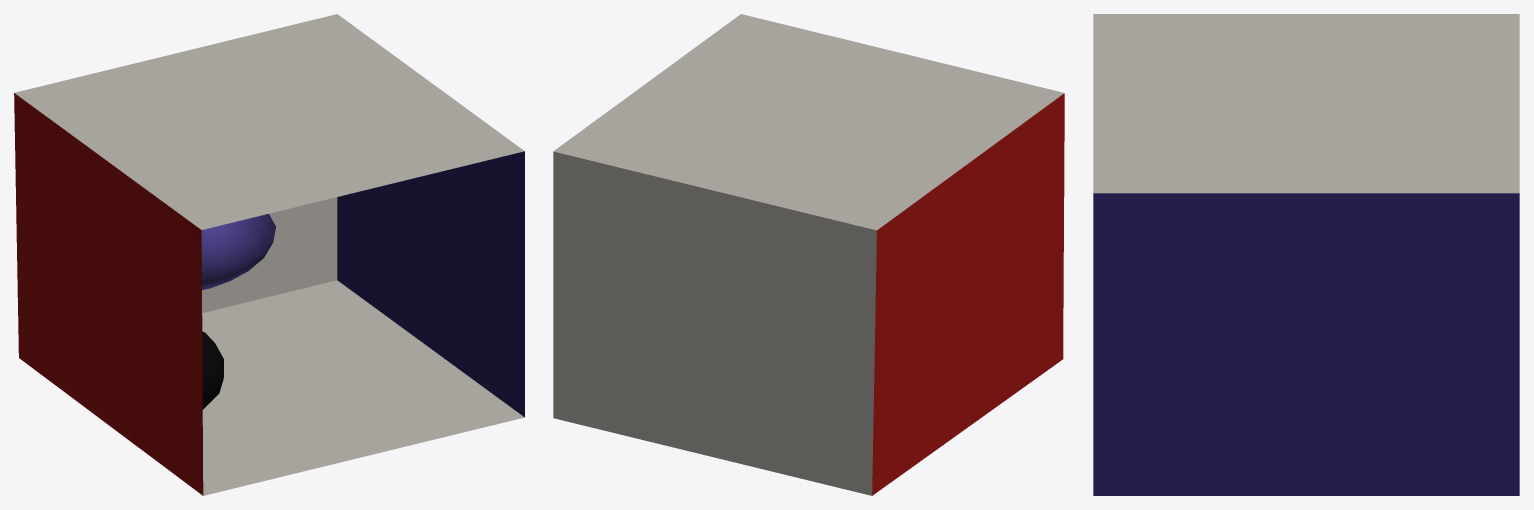
Rendered from CornellBox-Ellipsoid-27.obj.
The picture shows the model from 3 angles, left to right: view 1: azimuth 30°, elevation 25°; view 2: azimuth 150°, elevation 25°; view 3: azimuth 270°, elevation 25°; orthographic projection. The views are drawn at different scales.
Visible parts, largest first — view 1: ceiling, leftWall, floor, rightWall, backWall, leftSphere, rightSphere; view 2: backWall, ceiling, leftWall; view 3: rightWall, ceiling.
Part boxes in pixels (x1,y1,x2,y2): ceiling: (14, 14, 524, 229); leftWall: (14, 93, 203, 495); floor: (202, 280, 524, 495); rightWall: (337, 151, 524, 417); backWall: (202, 197, 337, 312); leftSphere: (201, 213, 275, 289); rightSphere: (202, 331, 223, 409); backWall: (553, 151, 876, 495); ceiling: (553, 14, 1064, 230); leftWall: (872, 93, 1064, 495); rightWall: (1093, 193, 1519, 495); ceiling: (1093, 14, 1519, 193).
Size of the model in its own units: 2.02 by 1.59 by 2.03.
